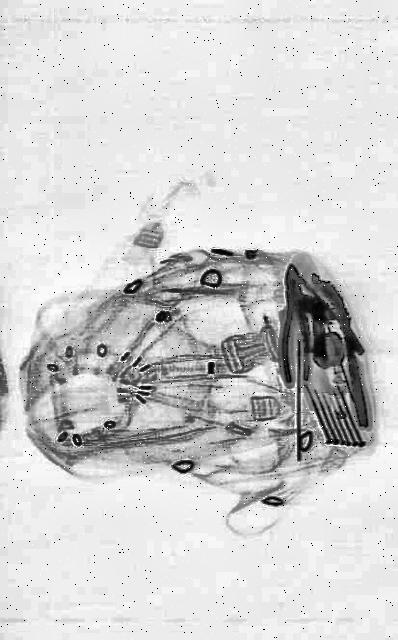Pliers: (274, 262, 314, 380)
